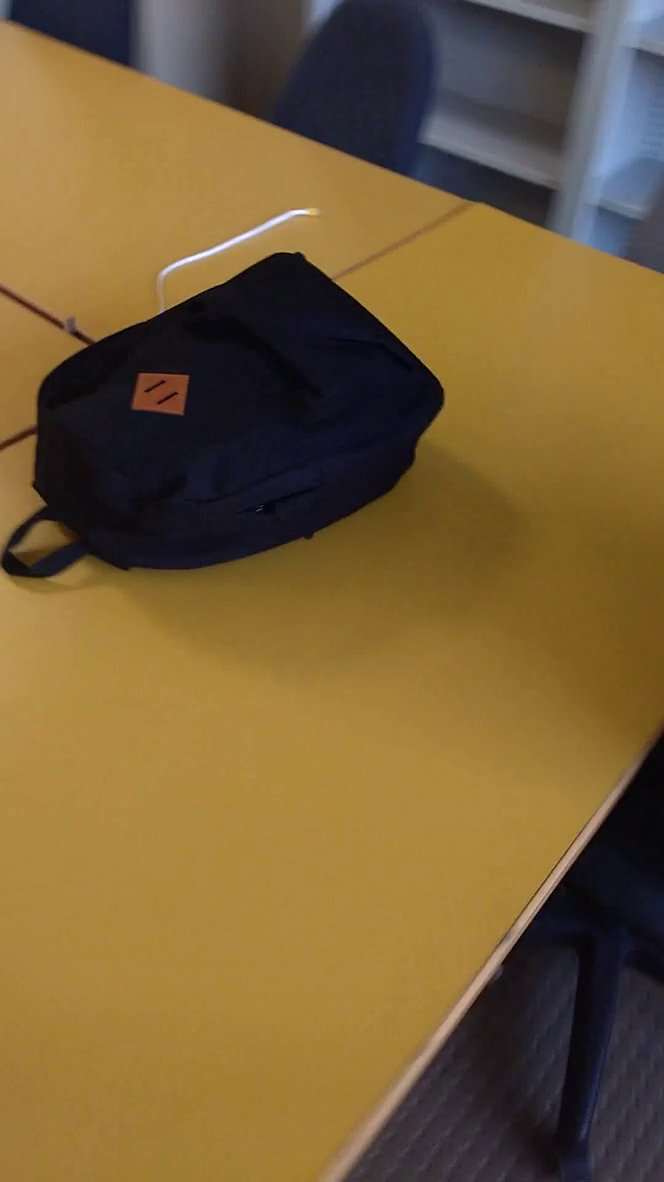bag: (1, 235, 457, 591)
chair: (275, 1, 442, 212)
